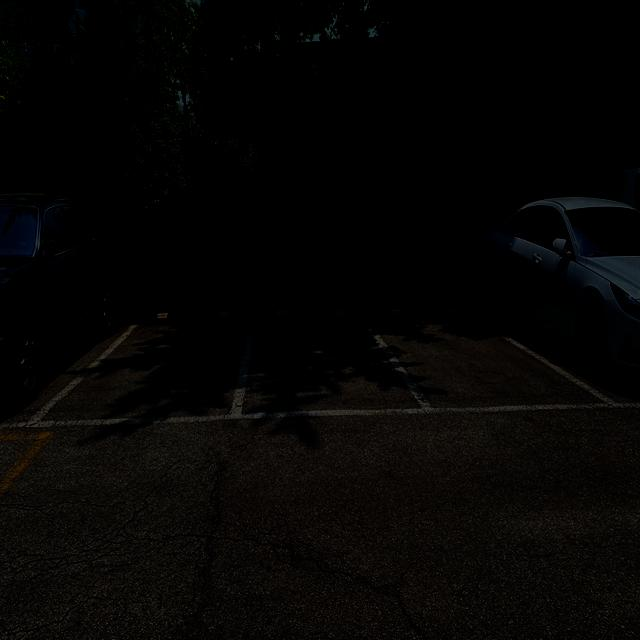empty: (352, 306, 628, 418), (11, 311, 259, 432), (225, 305, 437, 422)
